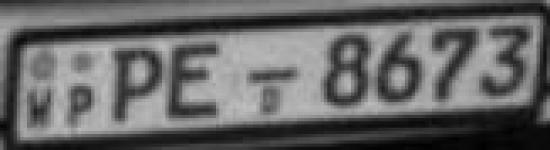-: (244, 66, 306, 88)
3: (483, 20, 533, 103)
6: (375, 27, 426, 107)
7: (428, 22, 483, 103)
8: (320, 30, 375, 111)
E: (164, 40, 230, 125)
P: (110, 45, 163, 127), (63, 80, 100, 127)
W: (23, 86, 55, 129)
